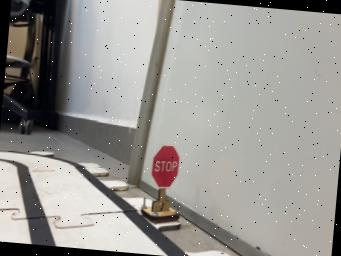stop: (141, 145, 178, 222), (141, 145, 178, 222)
street: (0, 151, 188, 256), (0, 151, 188, 256)
